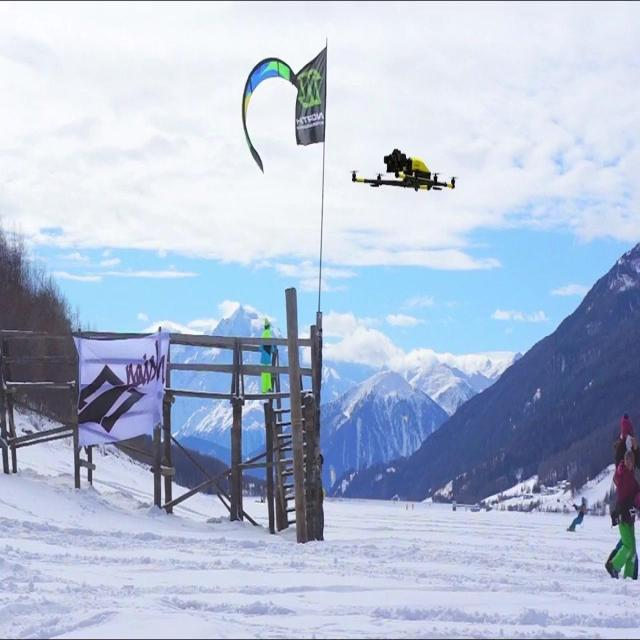drone: (349, 145, 459, 198)
